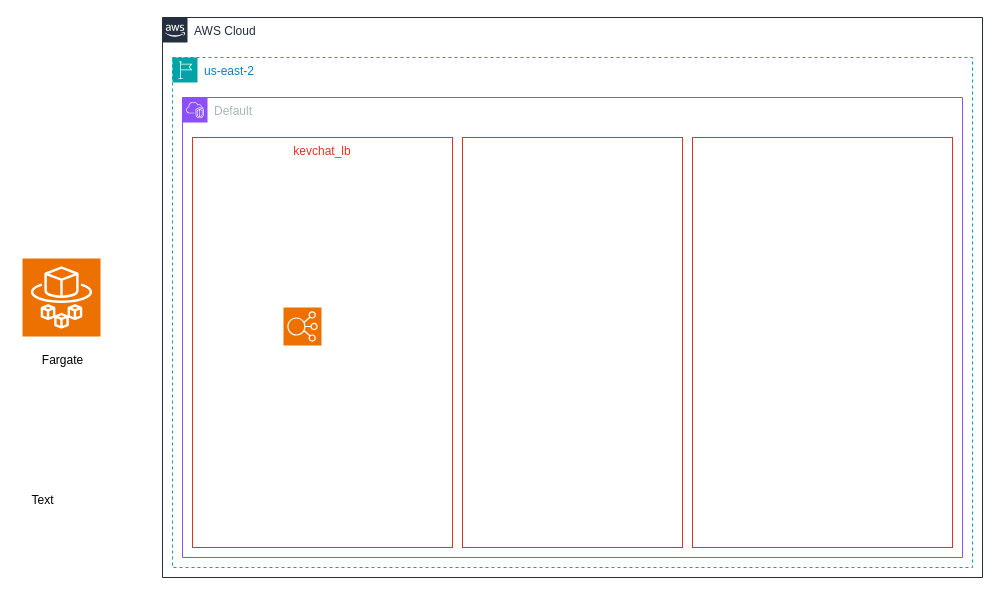
This 1000x595 diagram has some shape labels left out. The shapes that lost their labels are listed below. From the top down, each one's centre as x and y in pixels, then its label:
the point at 572,342: kevchat_front_door
the point at 822,342: kevchat_backend
